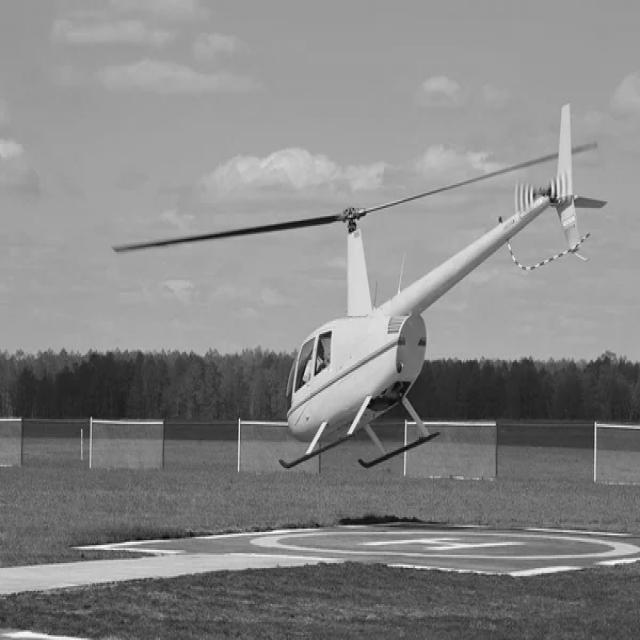Helicopter: (116, 103, 606, 465)
